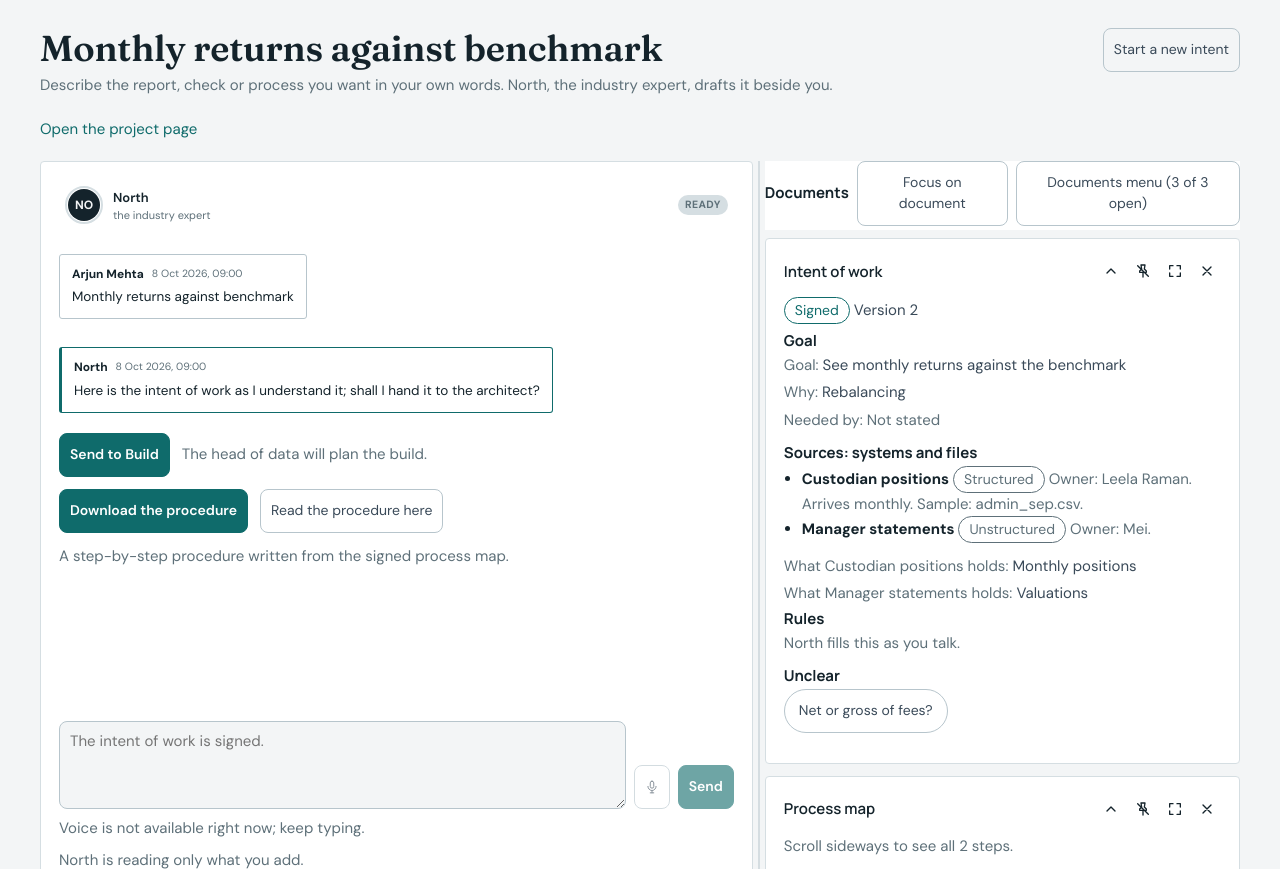
Test case: I1: sources show structure, owner, arrival and samples; a signed intent can be sent to Build
The width and height of the screenshot is (1280, 869).
Expected: the heading "Sources: systems and files" is shown, x1=784 y1=442 x2=977 y2=463
Expected: the text "Owner: Leela Raman. Arrives monthly. Sample: admin_sep.csv." is shown, x1=802 y1=469 x2=1192 y2=514
Click the button "Send to Build". click: x=114, y=455
box: x1=59 y1=433 x2=170 y2=477
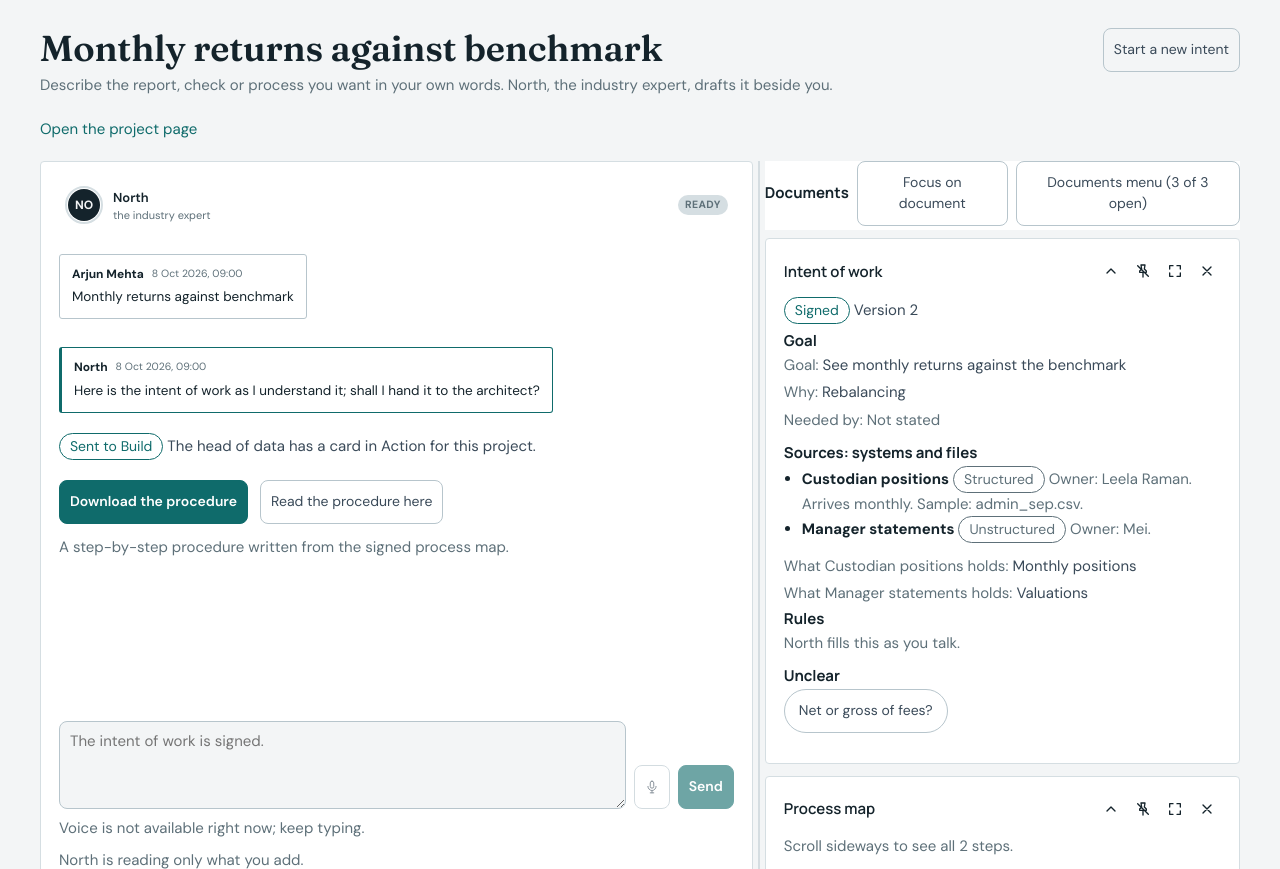
Now the text "Sent to Build" is shown, box x1=59 y1=433 x2=163 y2=460
